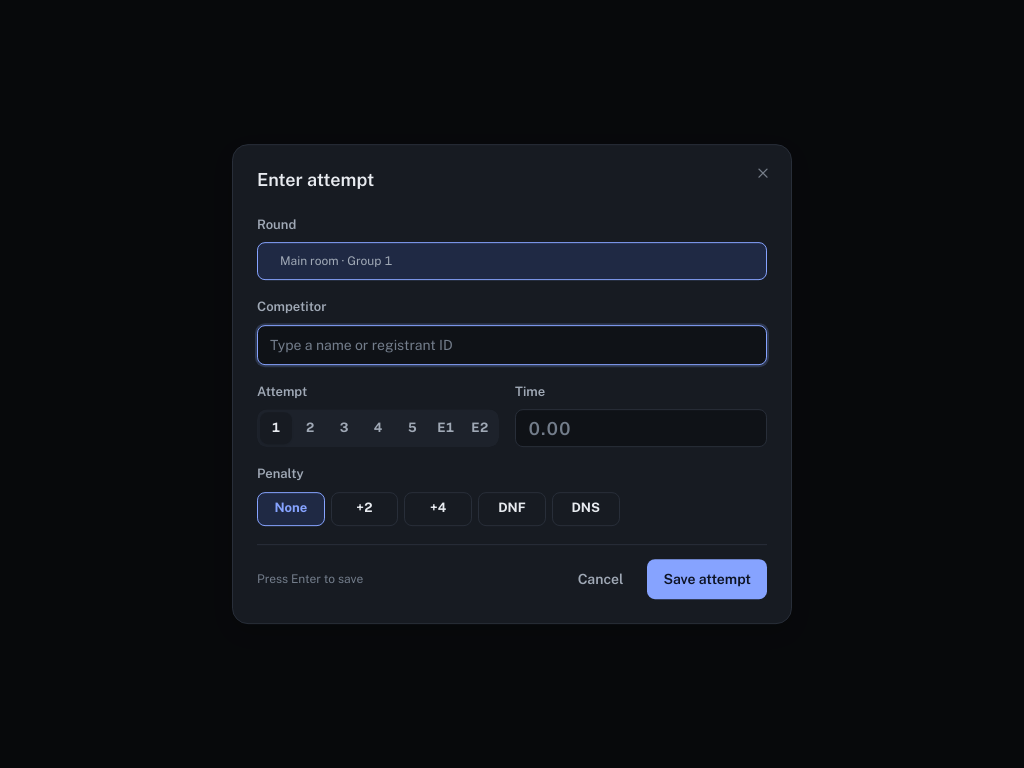
it: QuickEnterAttemptModal › explains what is missing instead of saving
Click the button "Save attempt". click: (707, 579)
box: [648,559,767,599]
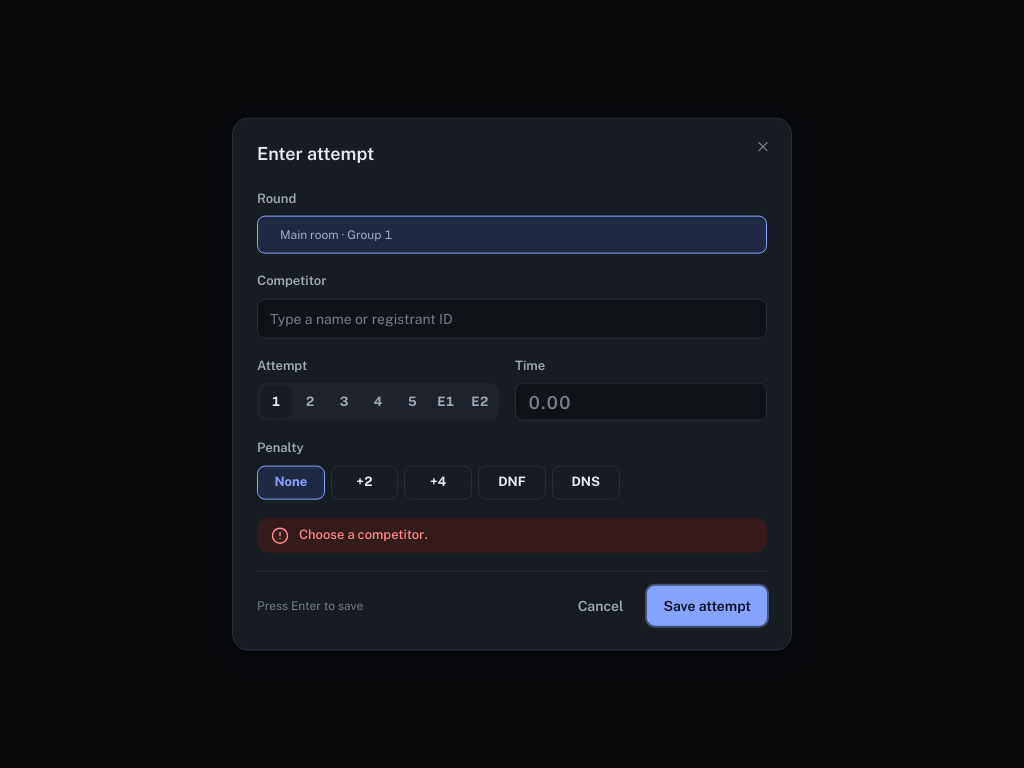
Expected: the message reads "Choose a competitor.", [299,526,428,541]
